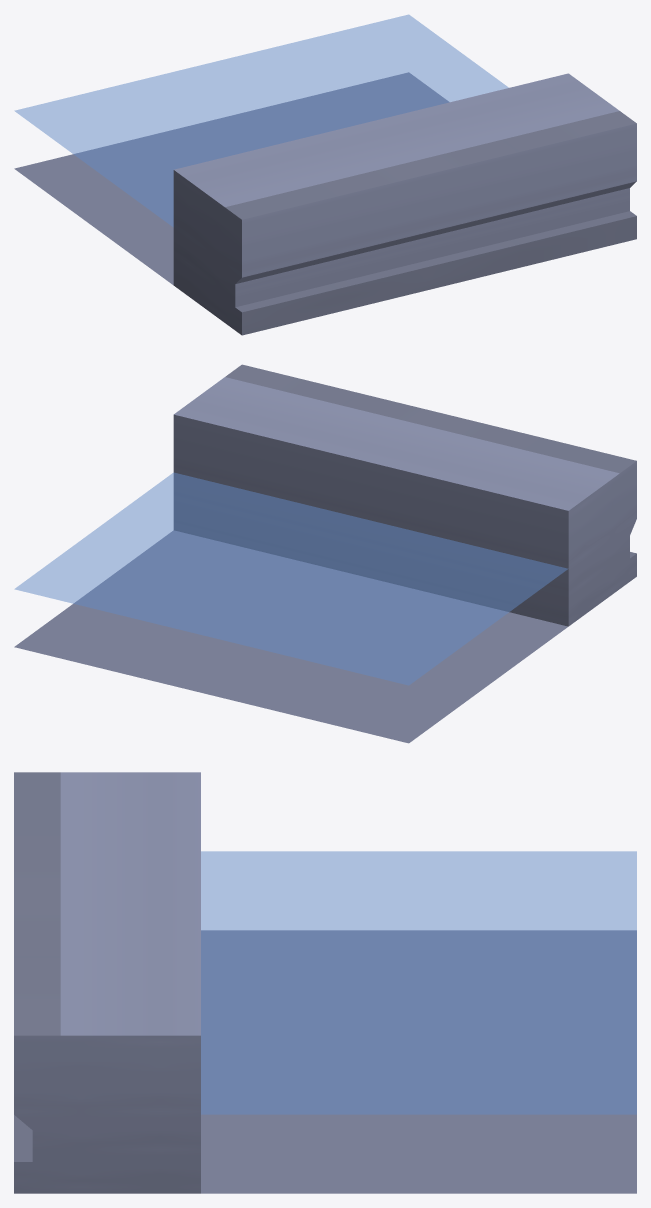
File: fountainEdge.fbx
3 views of the same model, one above another, from view 1: azimuth 30°, elevation 25°; view 2: azimuth 150°, elevation 25°; view 3: azimuth 270°, elevation 25° (orthographic). The views are drawn at different scales.
Visible parts, largest first — view 1: fountainEdge; view 2: fountainEdge; view 3: fountainEdge.
Boxes of the visible parts, <box> form: fountainEdge: <box>14,14,636,335</box>; fountainEdge: <box>14,364,636,743</box>; fountainEdge: <box>14,772,636,1193</box>.
Bounding box in the file's own units: 1 × 1 × 0.28.
